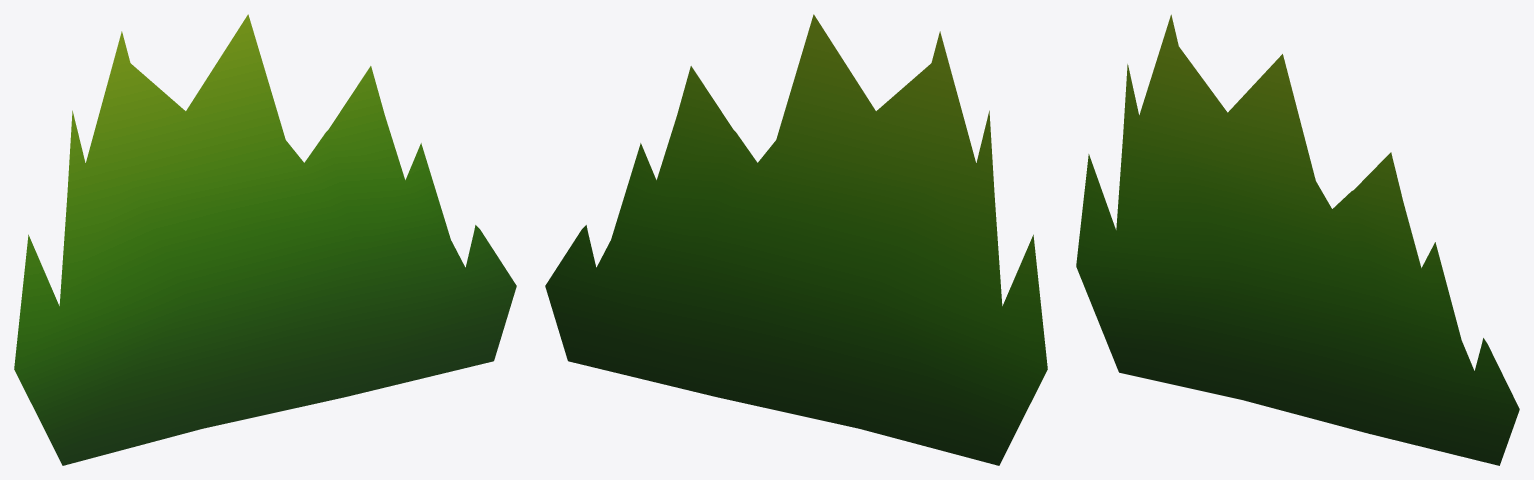
File: mato2.fbx
3 renders of one model, left to right at view 1: azimuth 30°, elevation 25°; view 2: azimuth 150°, elevation 25°; view 3: azimuth 330°, elevation 25°, orthographic. The views are drawn at different scales.
Visible parts, largest first — view 1: Grama2; view 2: Grama2; view 3: Grama2.
Boxes of the visible parts, <box> form: Grama2: <box>14,14,516,465</box>; Grama2: <box>545,14,1047,465</box>; Grama2: <box>1076,14,1519,465</box>.
Bounding box in the file's own units: 220 × 176 × 7.84e-06.
